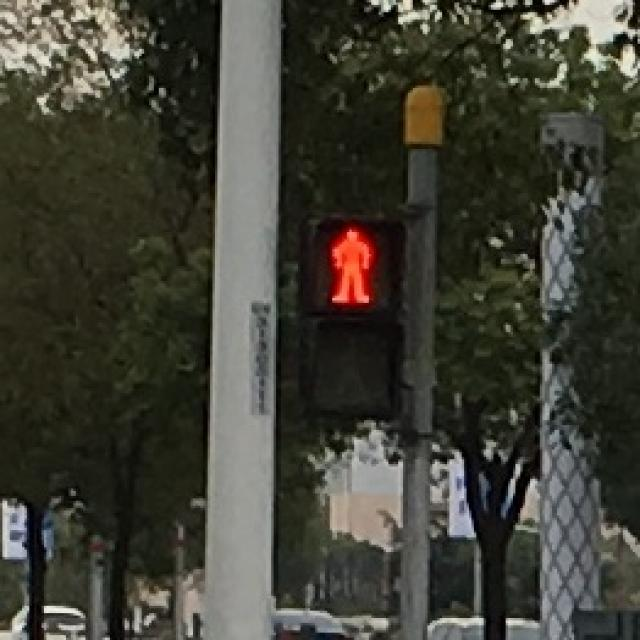red_light: (310, 217, 391, 308)
